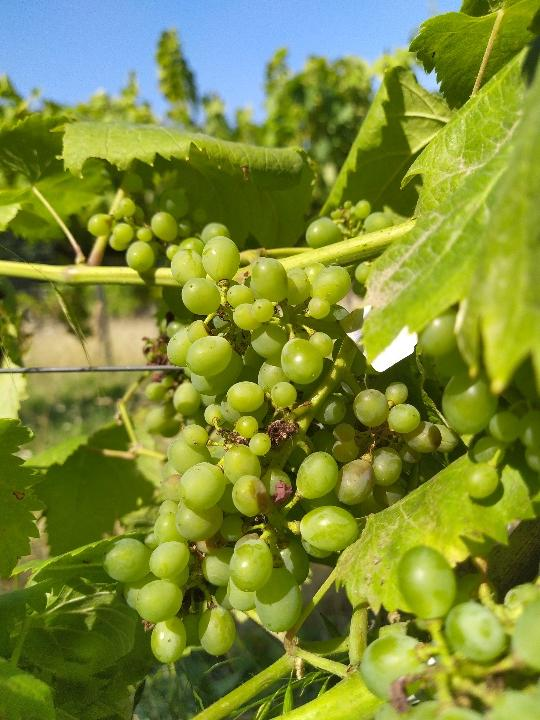grape: (101, 233, 457, 673), (83, 163, 207, 272)
